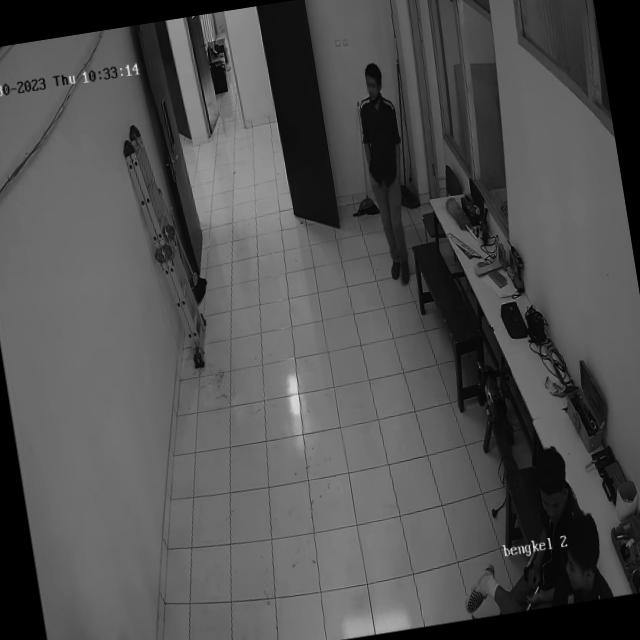person: (346, 42, 424, 311)
